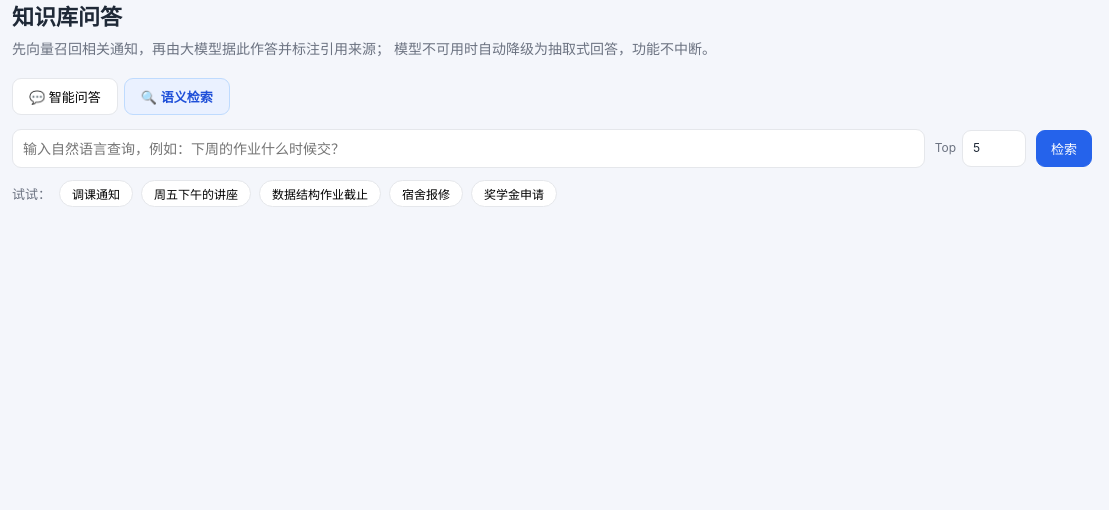
Search 组件 › 展示检索结果的标题与命中来源徽章
This screenshot has width=1109, height=510.
Step 1. Type "工作坊报名什么时候截止" into the field → (468, 149), box [12, 129, 925, 168]
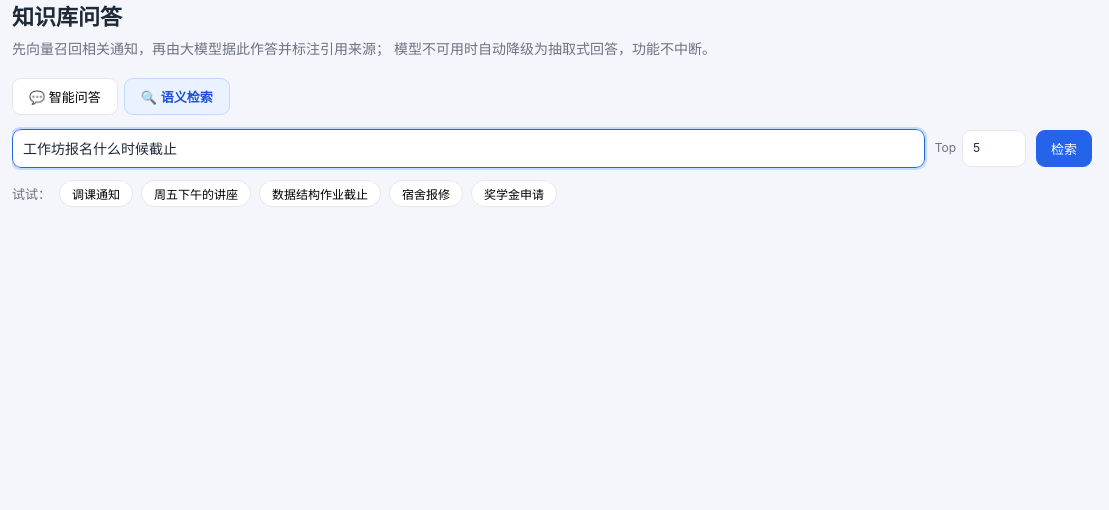
Step 2. Click the button "检索" → (1064, 149), box [1036, 130, 1092, 167]
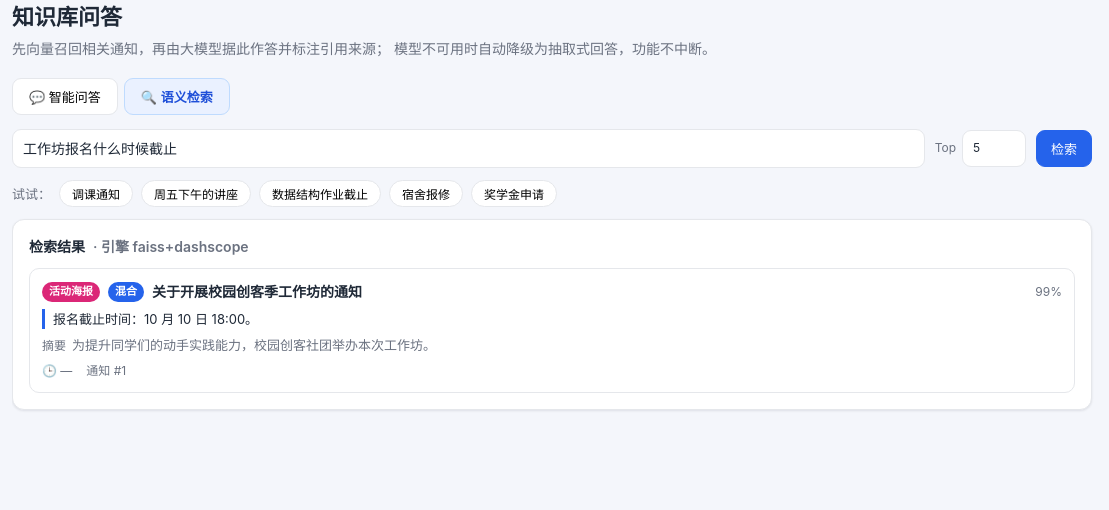
Expected: the text "关于开展校园创客季工作坊的通知" is shown, [152, 283, 362, 300]
Expected: the text "混合" is shown, [108, 282, 144, 302]
Step 3. Click the button "检索" → (1064, 149), box [1036, 130, 1092, 167]
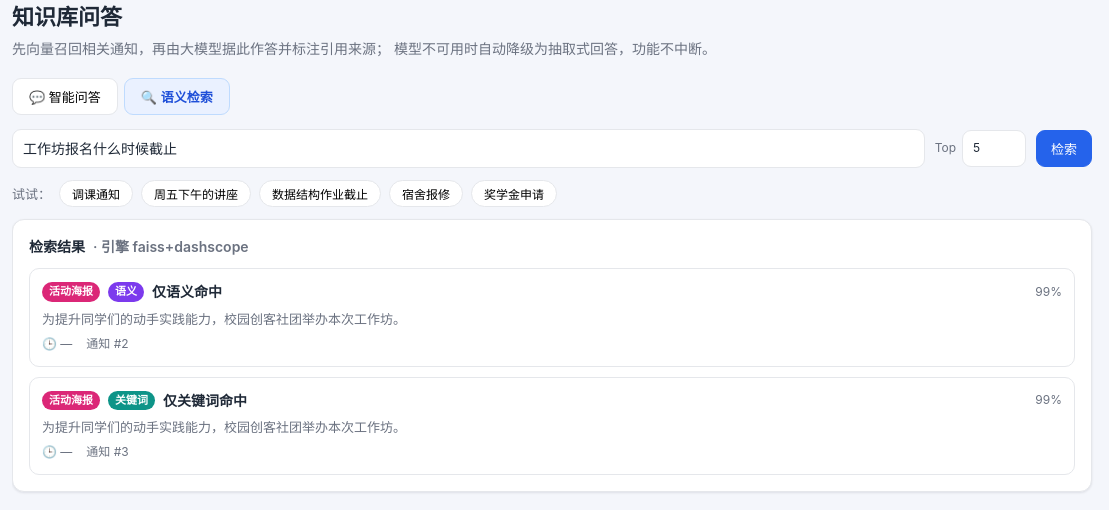
Expected: the text "语义" is shown, [108, 282, 144, 302]
Expected: the text "关键词" is shown, [108, 391, 155, 410]
